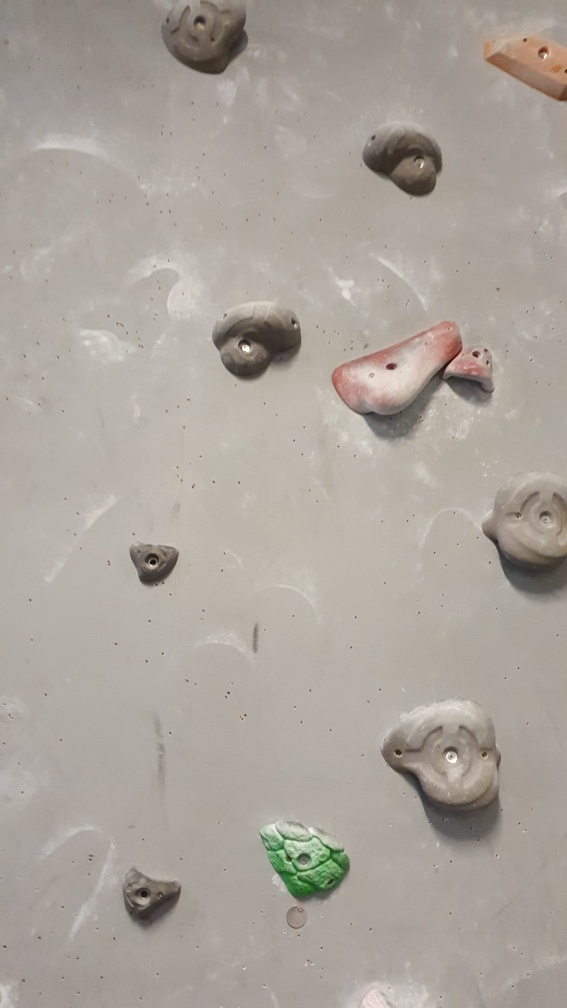Crimp: (126, 536, 180, 587)
Hand Start: (283, 902, 311, 936)
Jug: (379, 695, 508, 818), (481, 470, 567, 572), (208, 298, 306, 382), (157, 1, 253, 75), (364, 119, 447, 200)
Pinch: (479, 29, 567, 103)
